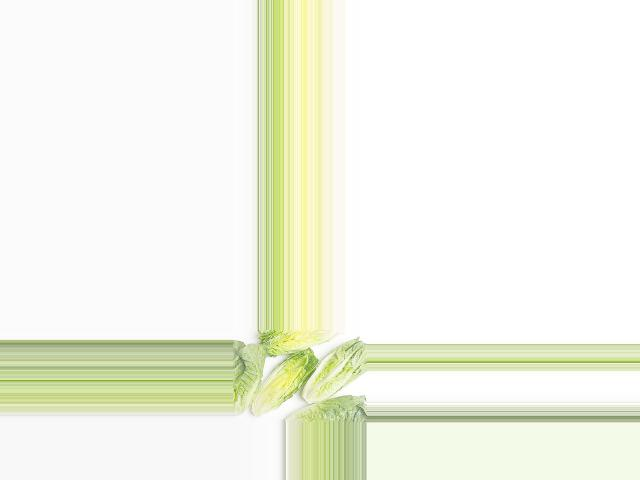lettuce: (232, 339, 268, 413)
